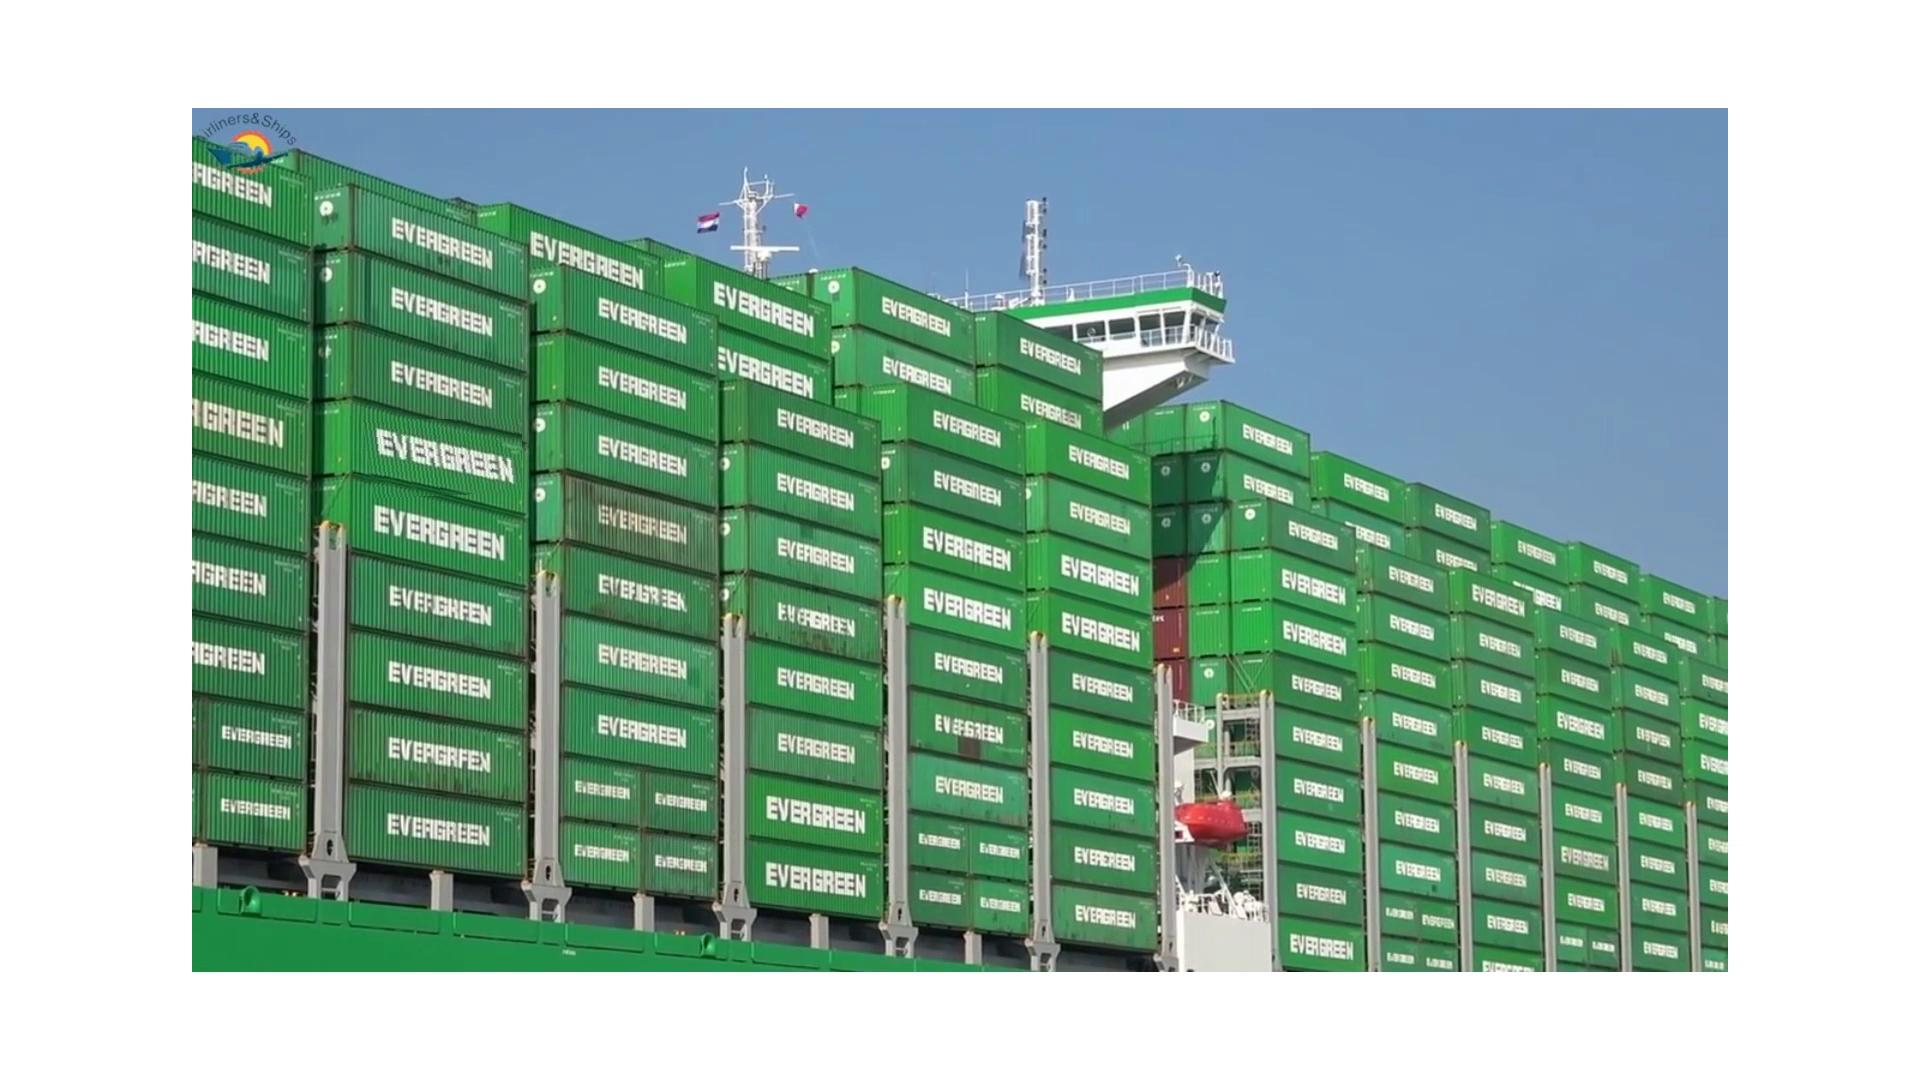OCR: (363, 419, 522, 498)
